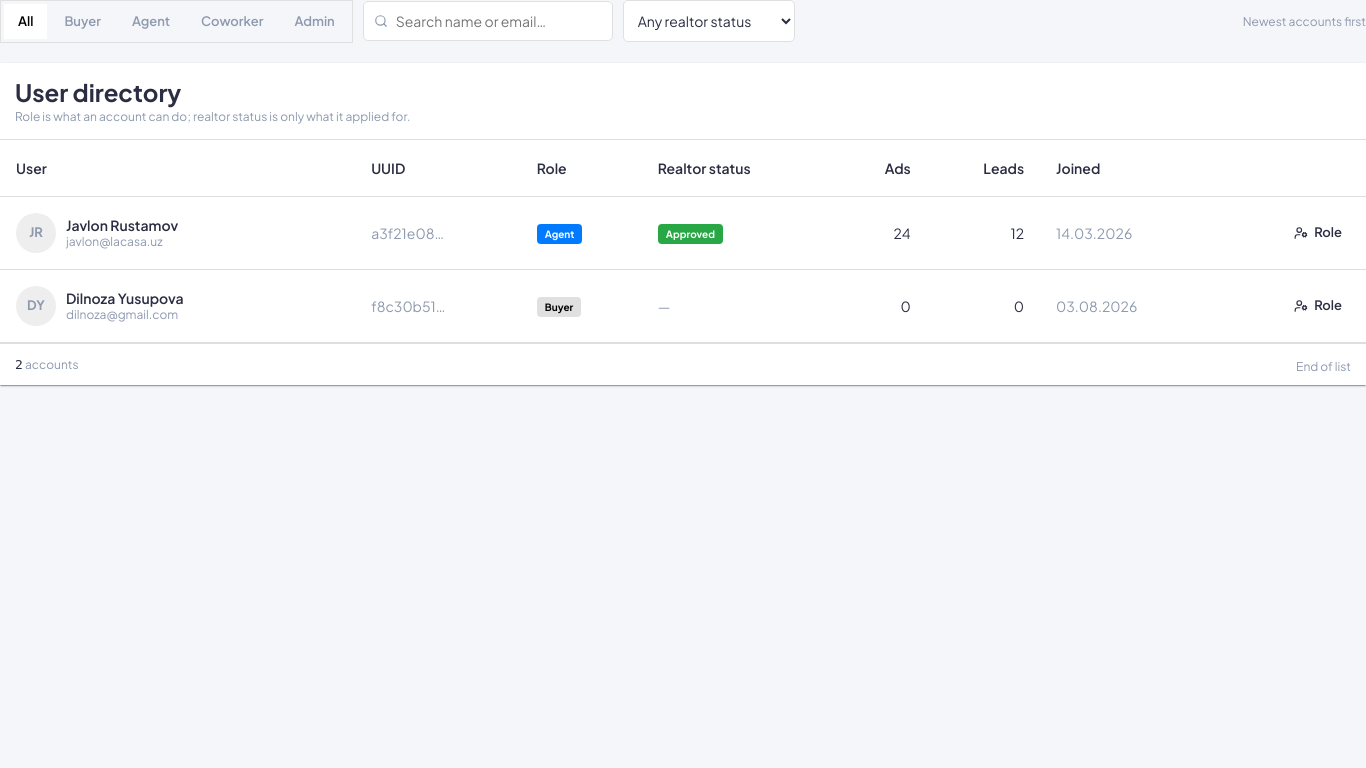
it: UsersScreen › changing a role › never writes without a confirmation
Expected: the text "Javlon Rustamov" is shown, [66,216,178,234]
Click the button with aria-label "Change role for Javlon Rustamov" at (1318, 233), box [1286,217,1350,248]
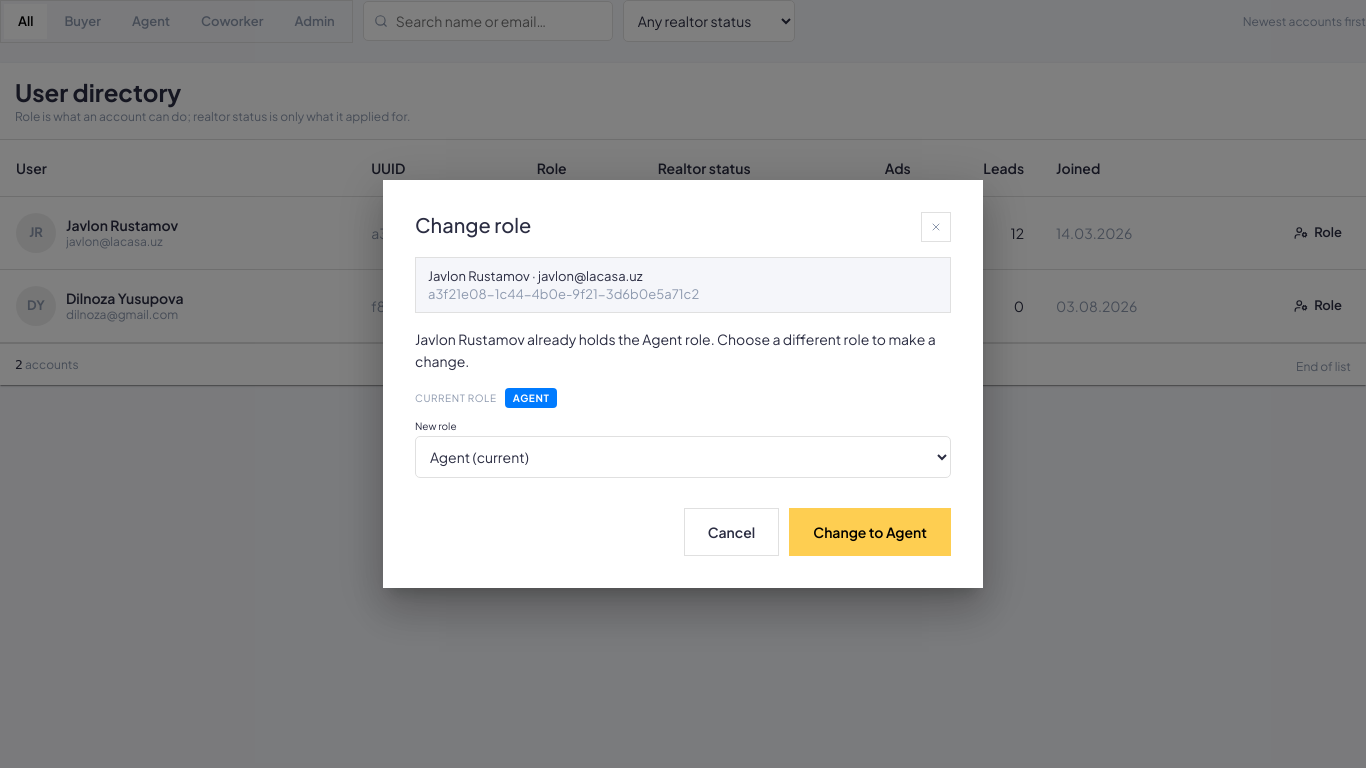
Result: the heading reads "Change role" at [415,212,531,237]
Result: the text "a3f21e08-1c44-4b0e-9f21-3d6b0e5a71c2" is shown at [428,286,699,302]
Result: the button named "Close" is shown at [921,212,951,242]
Click the button "Cancel" at (731, 532), box [684,508,779,556]
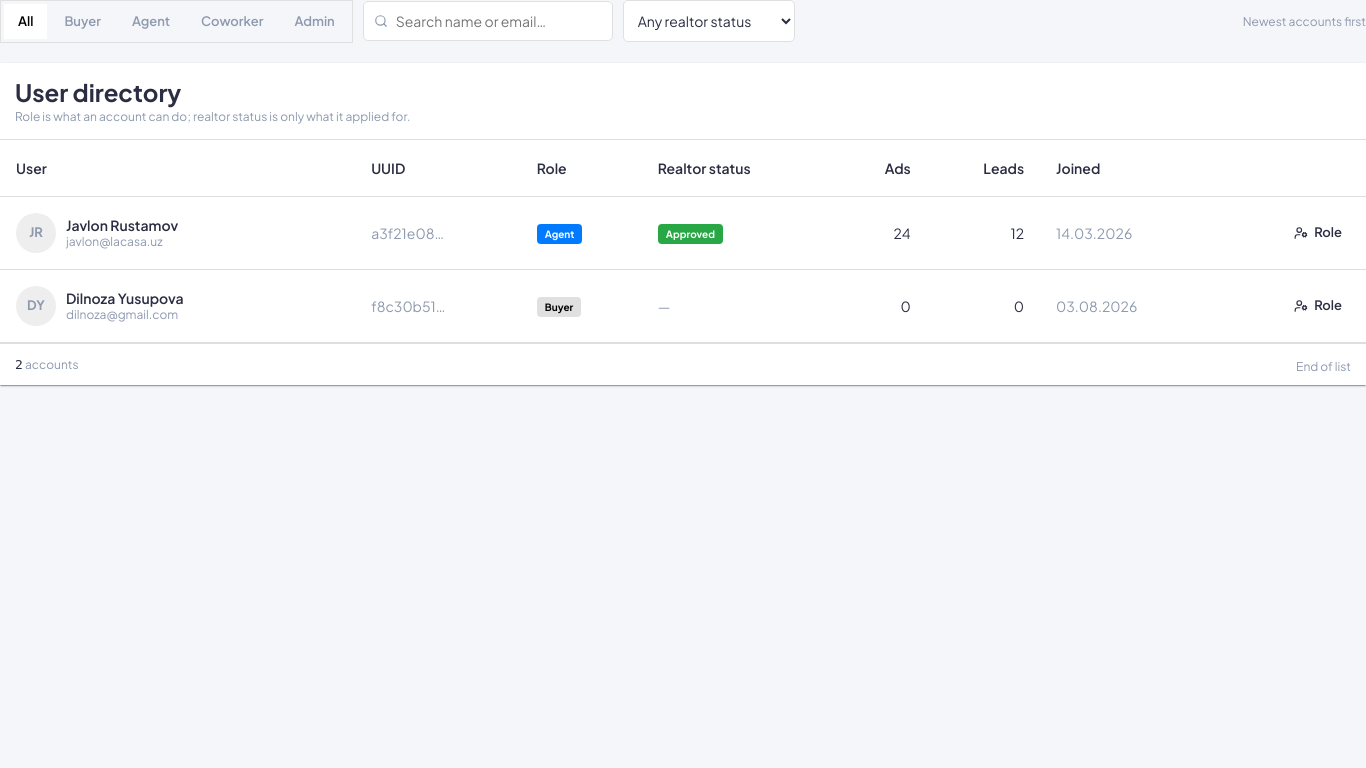
Result: the dialog is gone
